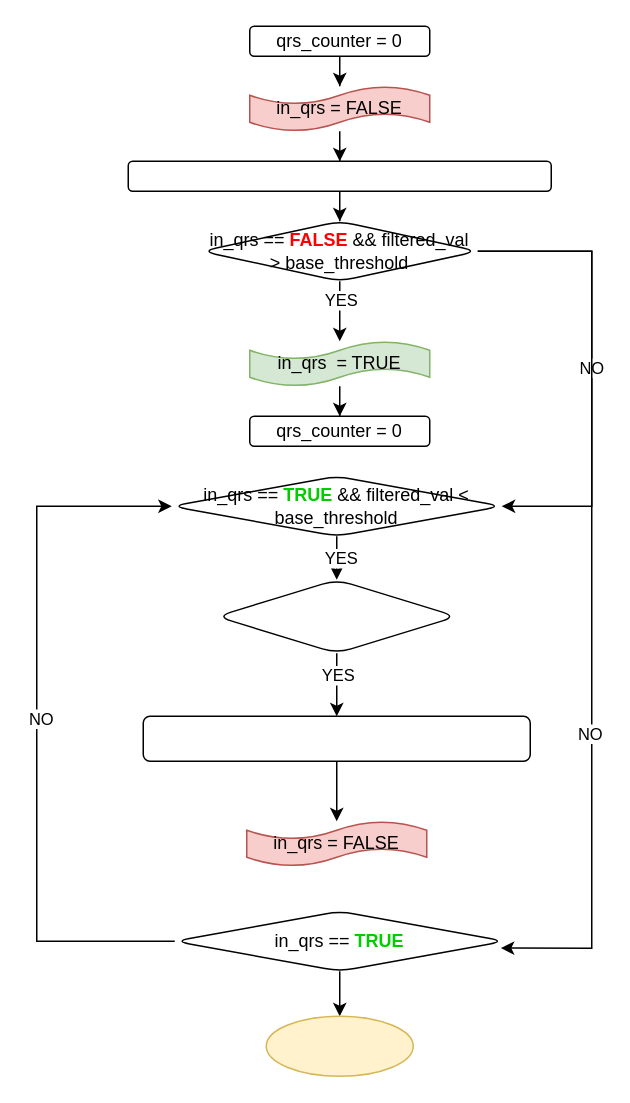
Some shapes in this 630 by 1103 pixel diagram are drawn without their labels. Here are the shapes that lost their labels. From the top down, the centre of each, then its label:
At point 339,175: "base_threshold = QRS_THRESHOLD * r_max_val".
At point 336,615: "Filter noise: Valid QRS: 60-120ms typical".
At point 336,738: "qrs_duration_ms = qrs_counter * ECG_SAMPLE_PERIOD_MS".
At point 339,1045: "qrs_counter ++".
